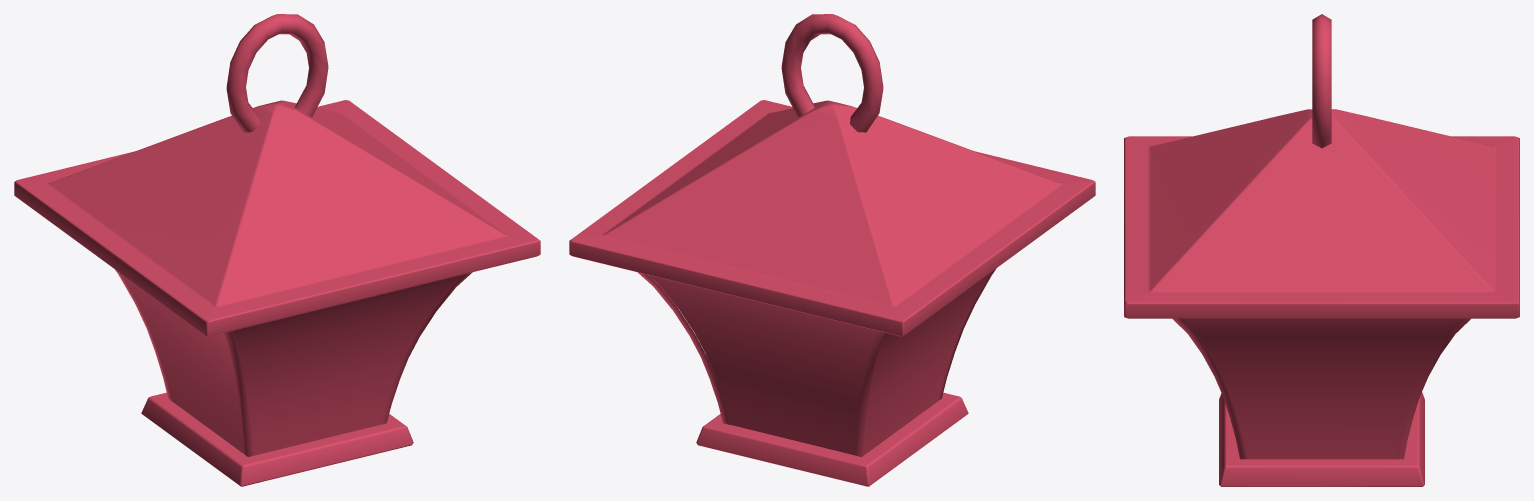
File: HalloweenRoomA_Lamp.fbx
3 views of the same model, side by side, from view 1: azimuth 30°, elevation 25°; view 2: azimuth 150°, elevation 25°; view 3: azimuth 270°, elevation 25° (orthographic). The views are drawn at different scales.
Visible parts, largest first — view 1: HalloweenRoomA_Lamp; view 2: HalloweenRoomA_Lamp; view 3: HalloweenRoomA_Lamp.
Boxes of the visible parts, x1,y1,x2,y2 form: HalloweenRoomA_Lamp: [14, 14, 540, 486]; HalloweenRoomA_Lamp: [569, 14, 1095, 486]; HalloweenRoomA_Lamp: [1124, 14, 1519, 486].
Size of the model in its own units: 28.54 by 33.88 by 28.54.
